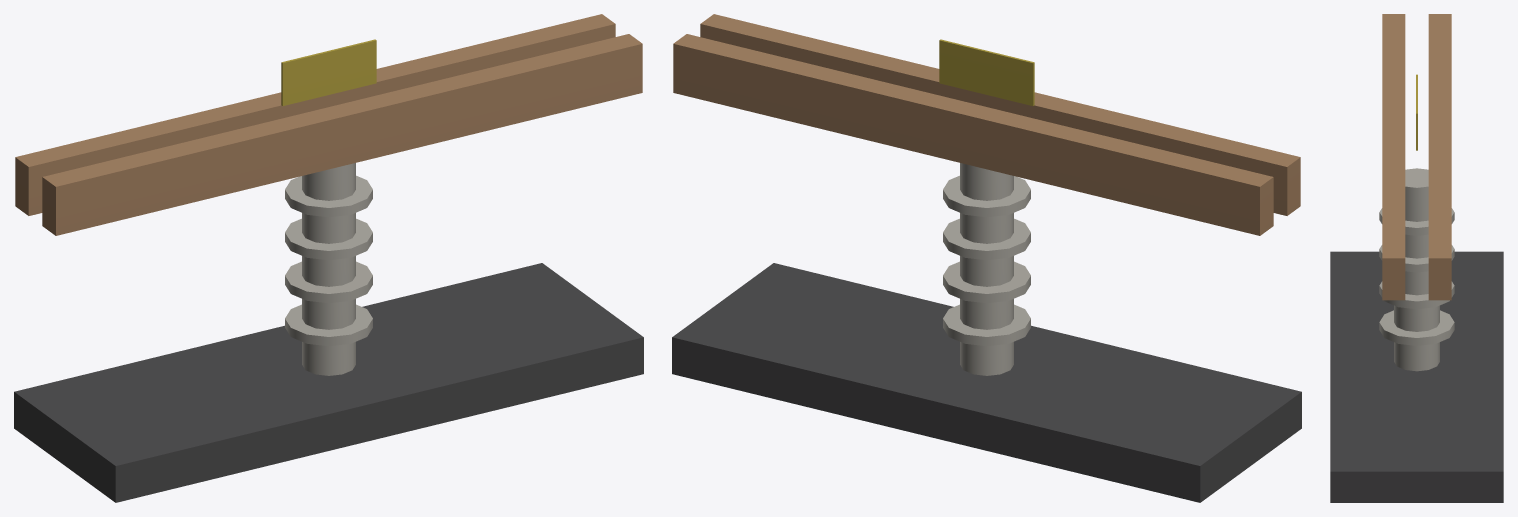
Rendered from lzBus1_steel.glb.
The picture shows the model from 3 angles, left to right: view 1: azimuth 30°, elevation 25°; view 2: azimuth 150°, elevation 25°; view 3: azimuth 270°, elevation 25°; orthographic projection. The views are drawn at different scales.
Visible parts, largest first — view 1: lzBus1_steel; view 2: lzBus1_steel; view 3: lzBus1_steel.
Boxes of the visible parts, bbox=[...] form: lzBus1_steel: bbox=[14, 14, 643, 502]; lzBus1_steel: bbox=[672, 14, 1301, 502]; lzBus1_steel: bbox=[1330, 14, 1503, 502].
Bounding box in the file's own units: 1 × 0.57 × 0.3.
